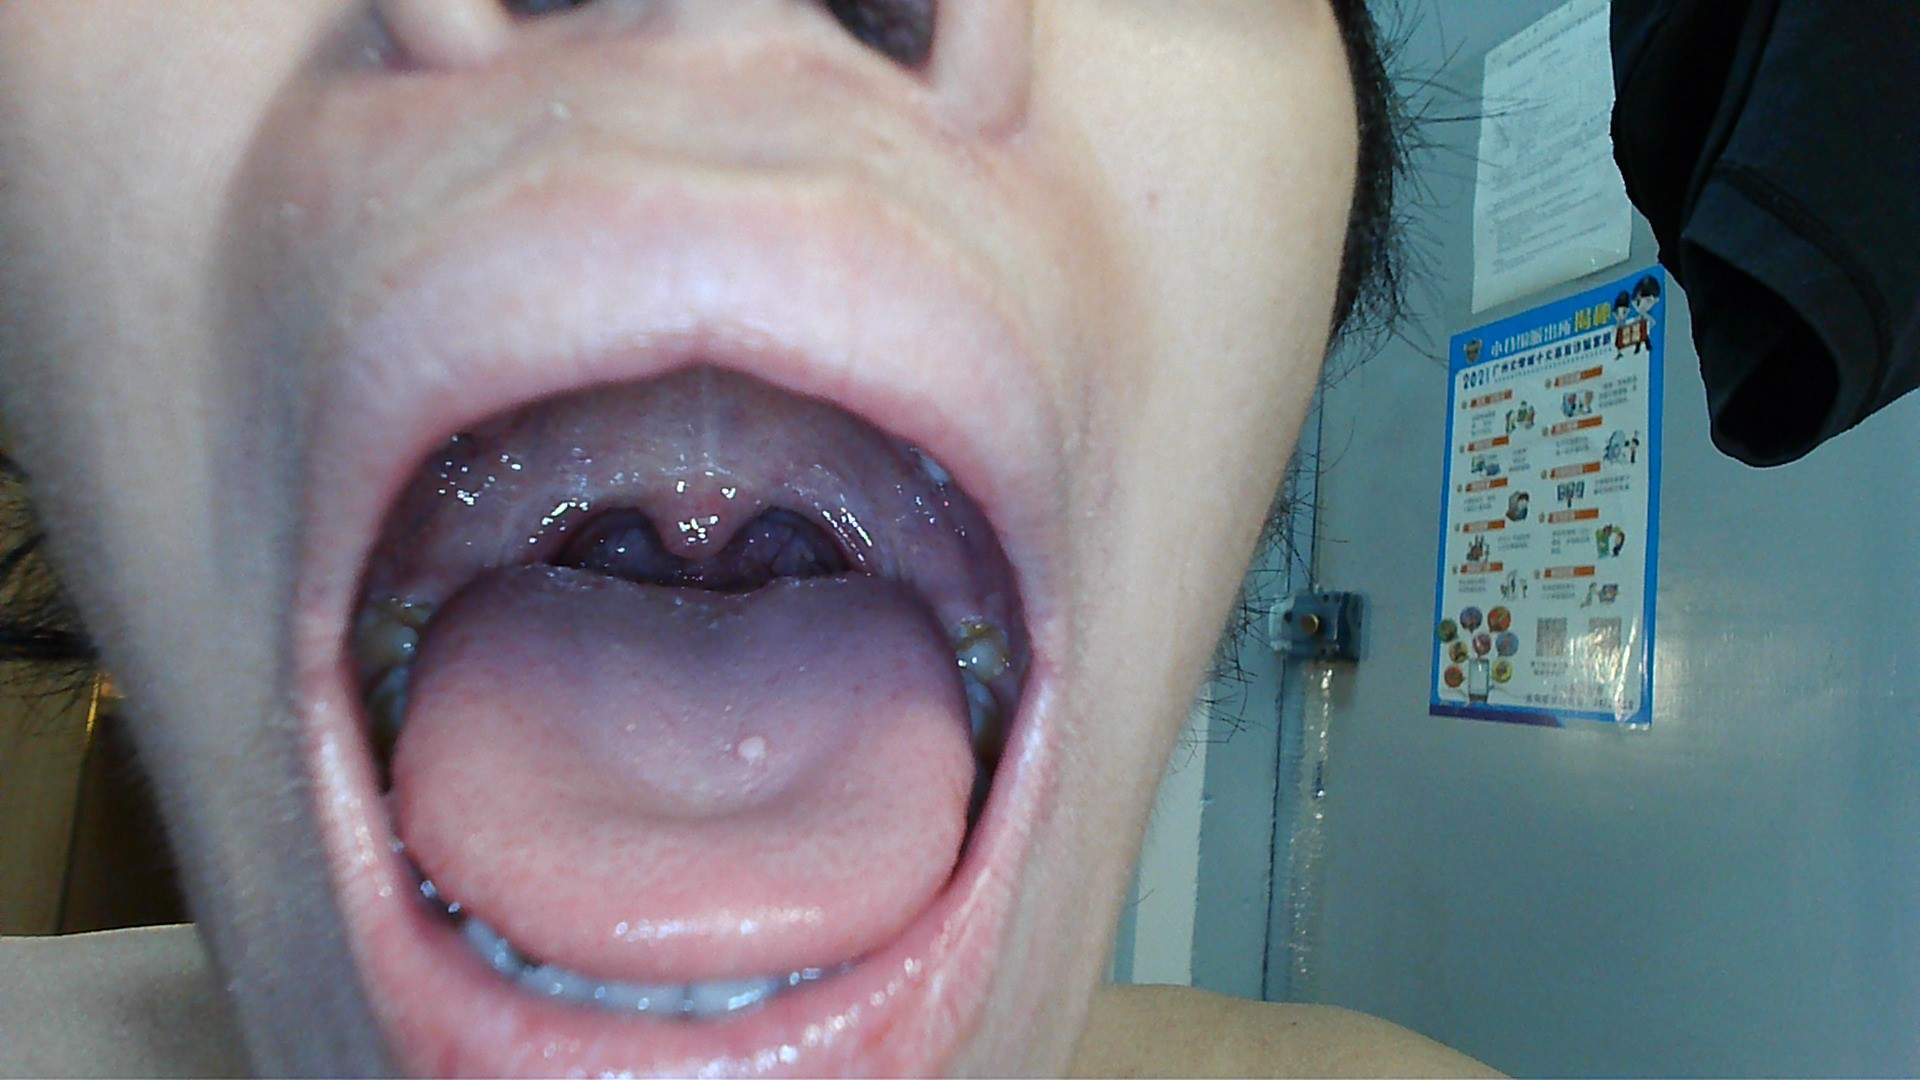throat: (798, 484, 890, 572), (522, 480, 607, 560)
